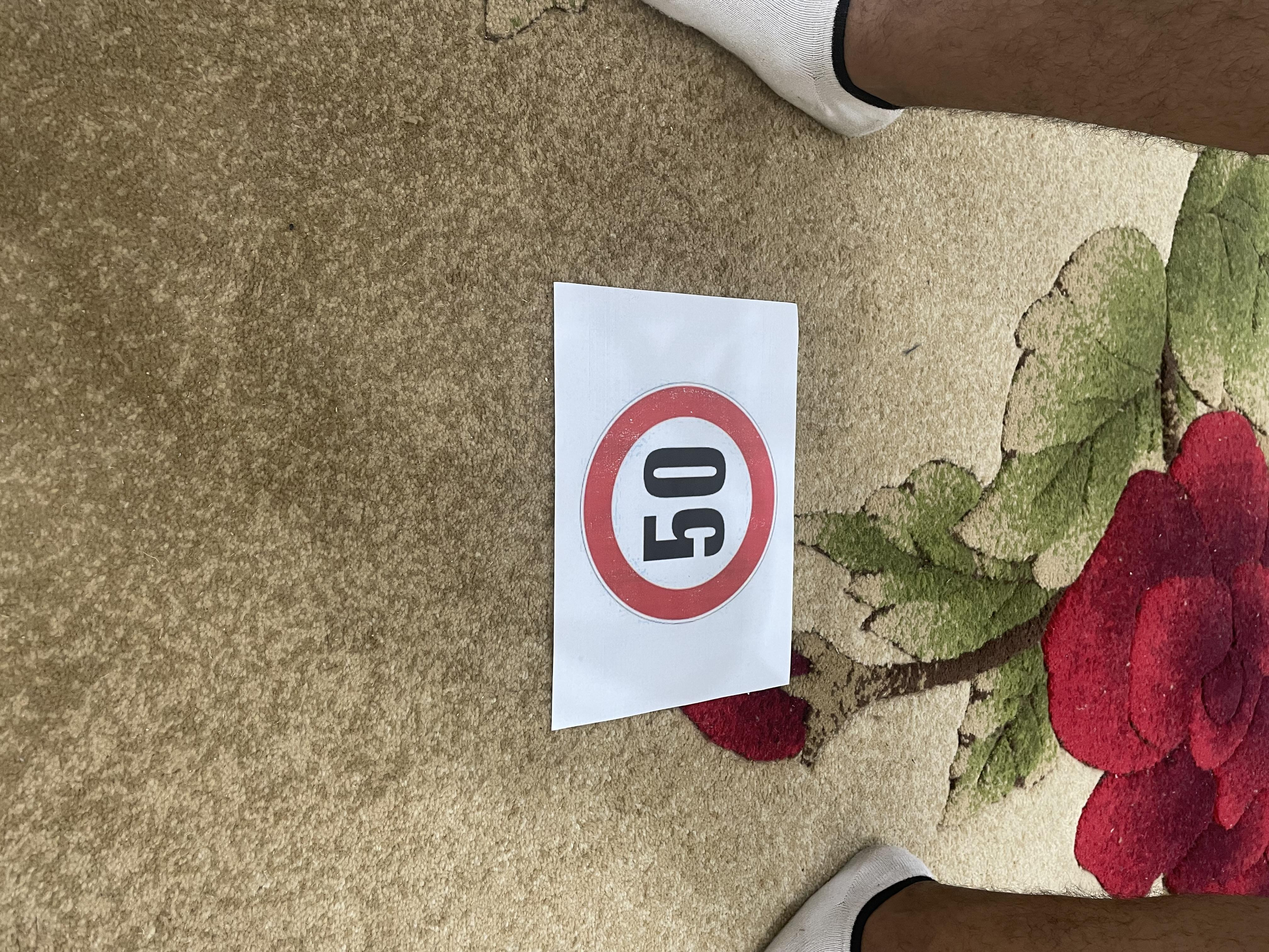50-Speed: (506, 368, 840, 520)
